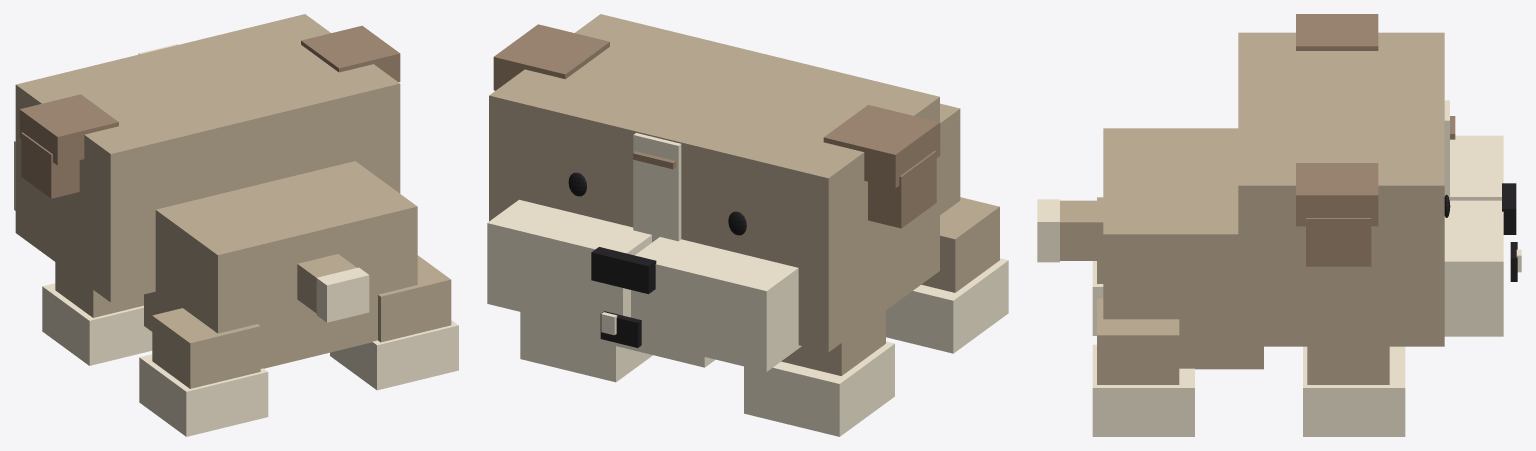
File: Bulldog_Block.gltf
3 views of the same model, side by side, from view 1: azimuth 30°, elevation 25°; view 2: azimuth 150°, elevation 25°; view 3: azimuth 270°, elevation 25° (orthographic). The views are drawn at different scales.
Parts seen in each view (by area): view 1: BigHead, ShortTorso, LegBL_Paw, LegBL_Leg, LegFL_Paw, LegBR_Paw, EarL_Fold, LegBR_Leg, EarR_Fold, TailTip, EarL_Drop, LegFL_Leg (+1 smaller); view 2: BigHead, PuffedCheekL, PuffedCheekR, LegFL_Paw, LegBL_Paw, EarL_Fold, LegBL_Leg, LegFR_Paw, WhiteBlaze, EarR_Fold, EarL_Drop, LegFL_Leg (+4 smaller); view 3: BigHead, ShortTorso, PuffedCheekR, LegFR_Paw, LegBR_Paw, LegBR_Leg, EarR_Fold, PuffedCheekL, LegFR_Leg, EarR_Drop, EarL_Fold, TailStub (+4 smaller).
Part boxes in pixels (x1,y1,x2,y2): BigHead: (15, 14, 400, 302); ShortTorso: (144, 161, 417, 368); LegBL_Paw: (139, 354, 268, 436); LegBL_Leg: (152, 308, 260, 388); LegFL_Paw: (42, 283, 152, 365); LegBR_Paw: (330, 320, 458, 390); EarL_Fold: (19, 94, 118, 165); LegBR_Leg: (378, 255, 451, 342); EarR_Fold: (301, 25, 400, 82); TailTip: (316, 267, 369, 322); EarL_Drop: (21, 132, 79, 198); LegFL_Leg: (55, 262, 143, 317); BigHead: (489, 14, 939, 352); PuffedCheekL: (631, 237, 801, 371); PuffedCheekR: (487, 199, 651, 331); LegFL_Paw: (744, 341, 894, 436); LegBL_Paw: (886, 258, 1008, 353); EarL_Fold: (823, 105, 940, 188); LegBL_Leg: (921, 197, 999, 292); LegFR_Paw: (520, 312, 652, 382); WhiteBlaze: (633, 133, 681, 242); EarR_Fold: (493, 24, 609, 90); EarL_Drop: (868, 151, 936, 228); LegFL_Leg: (781, 311, 885, 375); BigHead: (1238, 32, 1444, 346); ShortTorso: (1103, 128, 1263, 369); PuffedCheekR: (1444, 200, 1503, 336); LegFR_Paw: (1303, 346, 1405, 436); LegBR_Paw: (1092, 344, 1194, 436); LegBR_Leg: (1097, 298, 1179, 384); EarR_Fold: (1296, 163, 1378, 226); PuffedCheekL: (1450, 135, 1503, 200); LegFR_Leg: (1307, 346, 1389, 384); EarR_Drop: (1306, 218, 1371, 266); EarL_Fold: (1296, 14, 1378, 50); TailStub: (1060, 200, 1103, 260).
Bounding box in the file's own units: 3.05 × 2.02 × 3.41.
